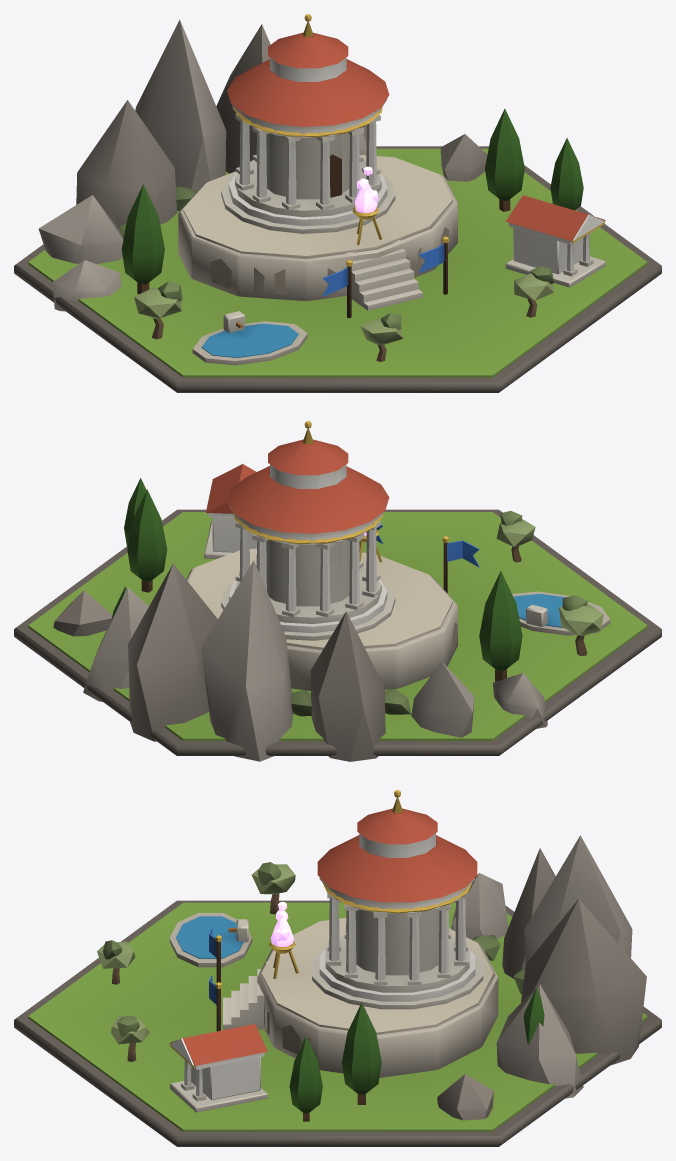
File: w_oracle.glb
3 renders of one model, top to bottom at view 1: azimuth 30°, elevation 25°; view 2: azimuth 150°, elevation 25°; view 3: azimuth 270°, elevation 25°, orthographic.
Parts seen in each view (by area): view 1: w_oracle; view 2: w_oracle; view 3: w_oracle.
Boxes of the visible parts, <box> form: w_oracle: <box>14,14,661,392</box>; w_oracle: <box>14,421,661,761</box>; w_oracle: <box>14,790,661,1146</box>.
Size of the model in its own units: 1.43 by 0.668 by 1.63.
